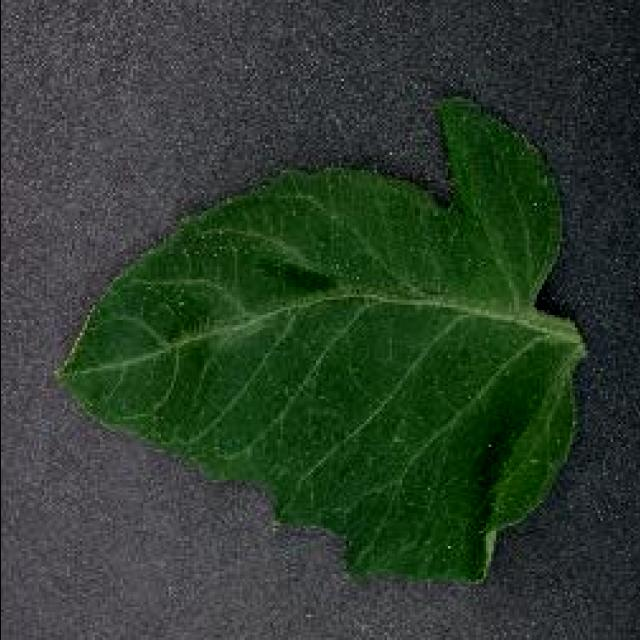healthy: (57, 97, 585, 594)
